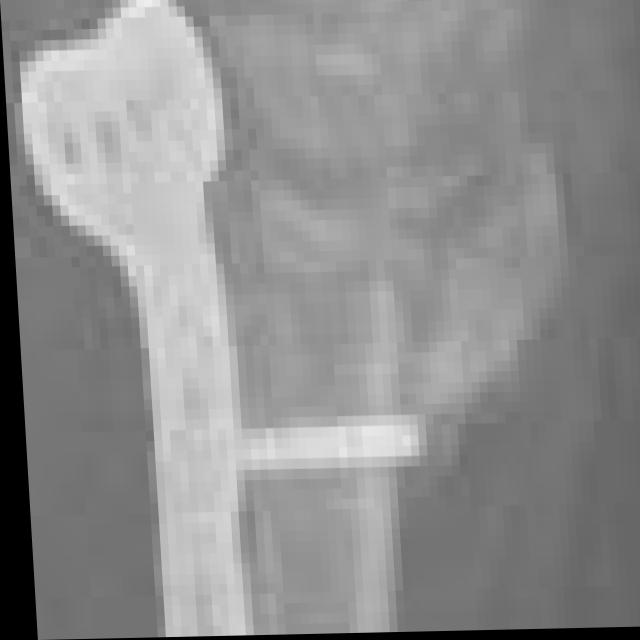fracture: (17, 0, 640, 631)
